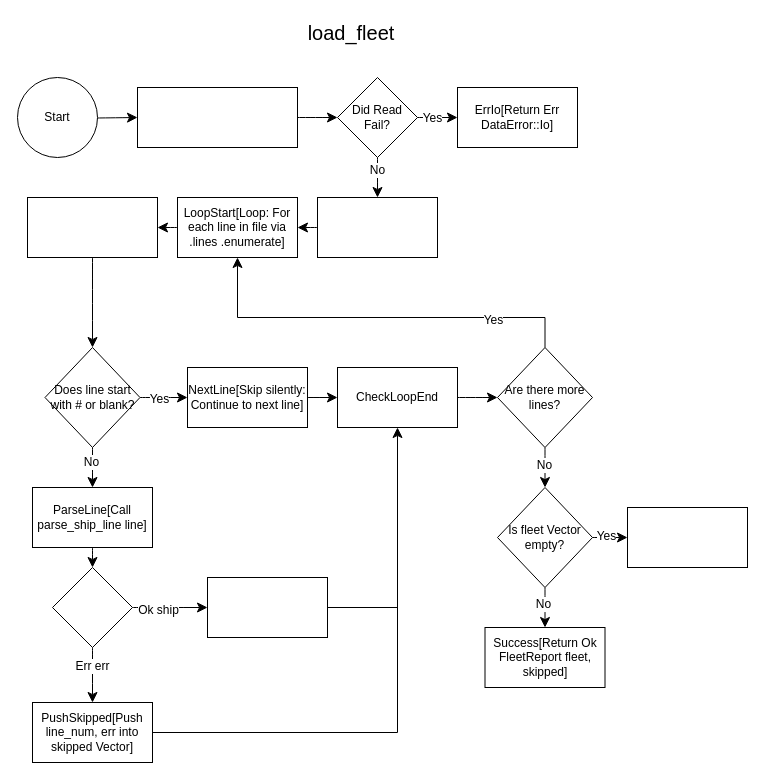
Image size: 765x780. Some labels were removed from this diagram. The box of each missing label's shape, as (x1, y1, x2, y2) in pixels:
ErrNoShips[Return Err DataError::NoShips]: (626, 506, 748, 568)
Init[Initialize empty fleet & skipped Vectors]: (316, 196, 438, 258)
LineNum[Calculate line_num = index + 1]: (26, 196, 158, 258)
PushFleet[Push ship into fleet Vector]: (206, 576, 328, 638)
ReadFile[fs::read_to_string path]: (136, 86, 298, 148)
Result of Parse?: (52, 566, 132, 648)
